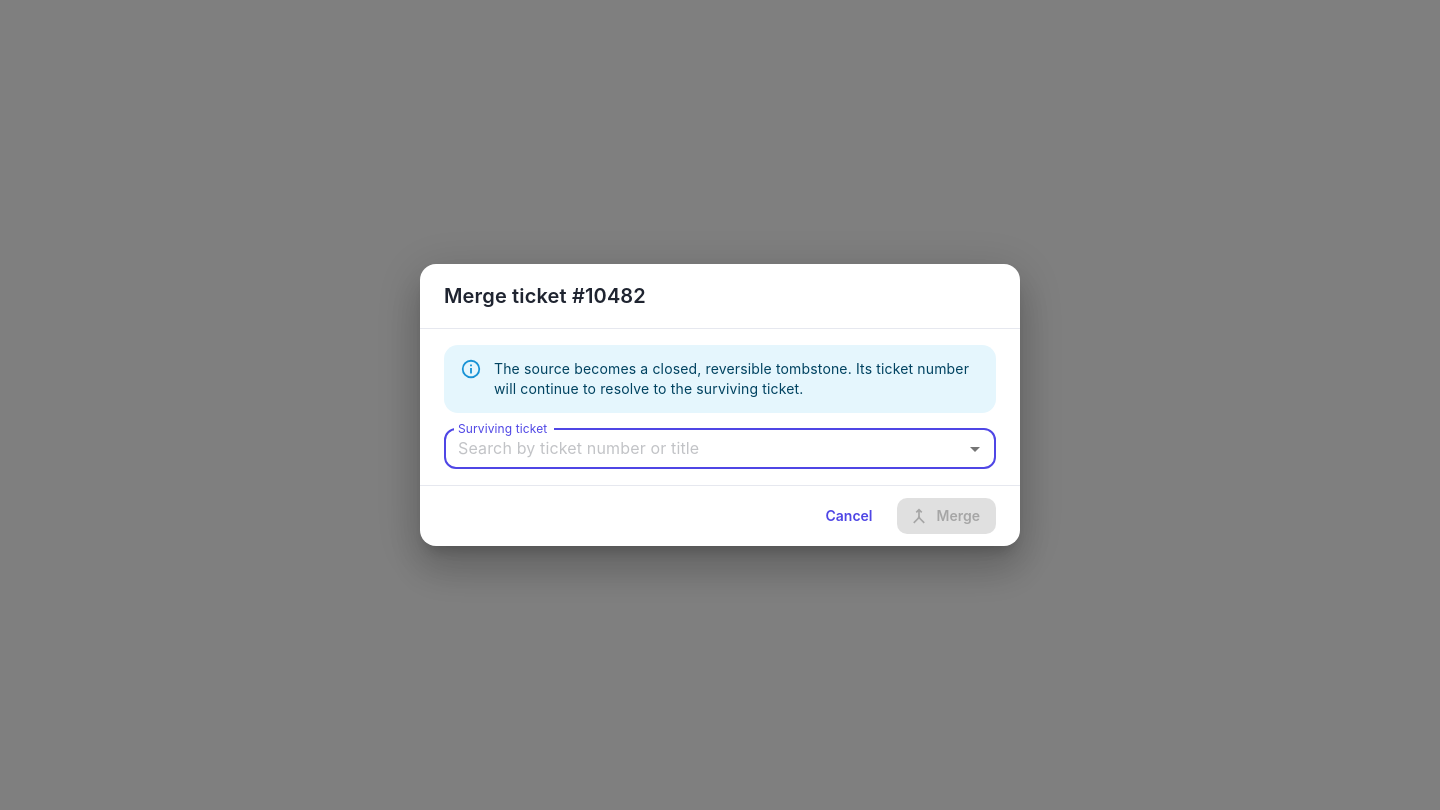
Test: MergeTicketDialog acknowledgement gate › keeps Merge disabled until every warning code is acknowledged
Type "10479" into the dropdown labelled "Surviving ticket".
click(704, 449); type("10479")  # box [450, 435, 957, 463]
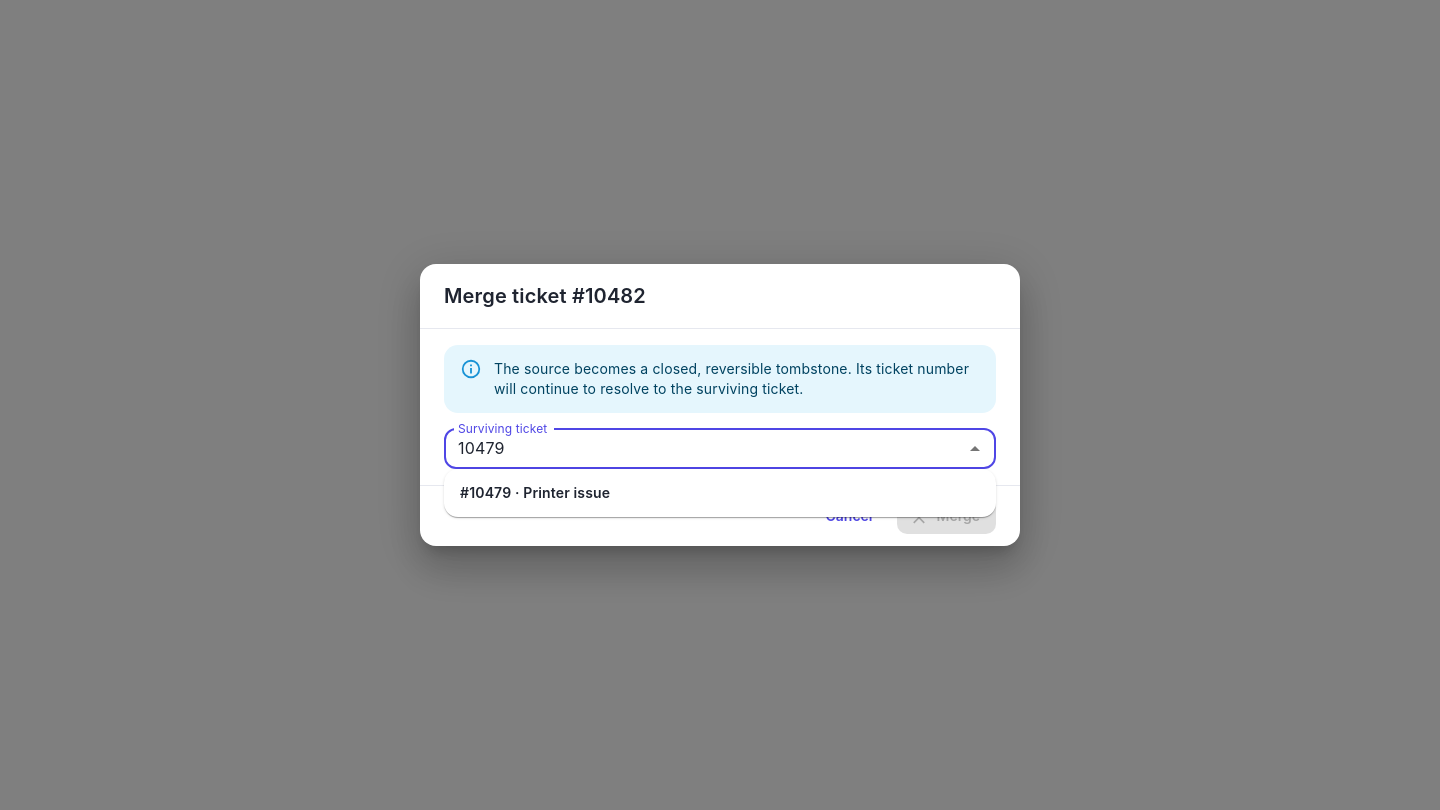
Click the option "#10479 · Printer issue".
click(535, 492)  # box [460, 484, 610, 501]
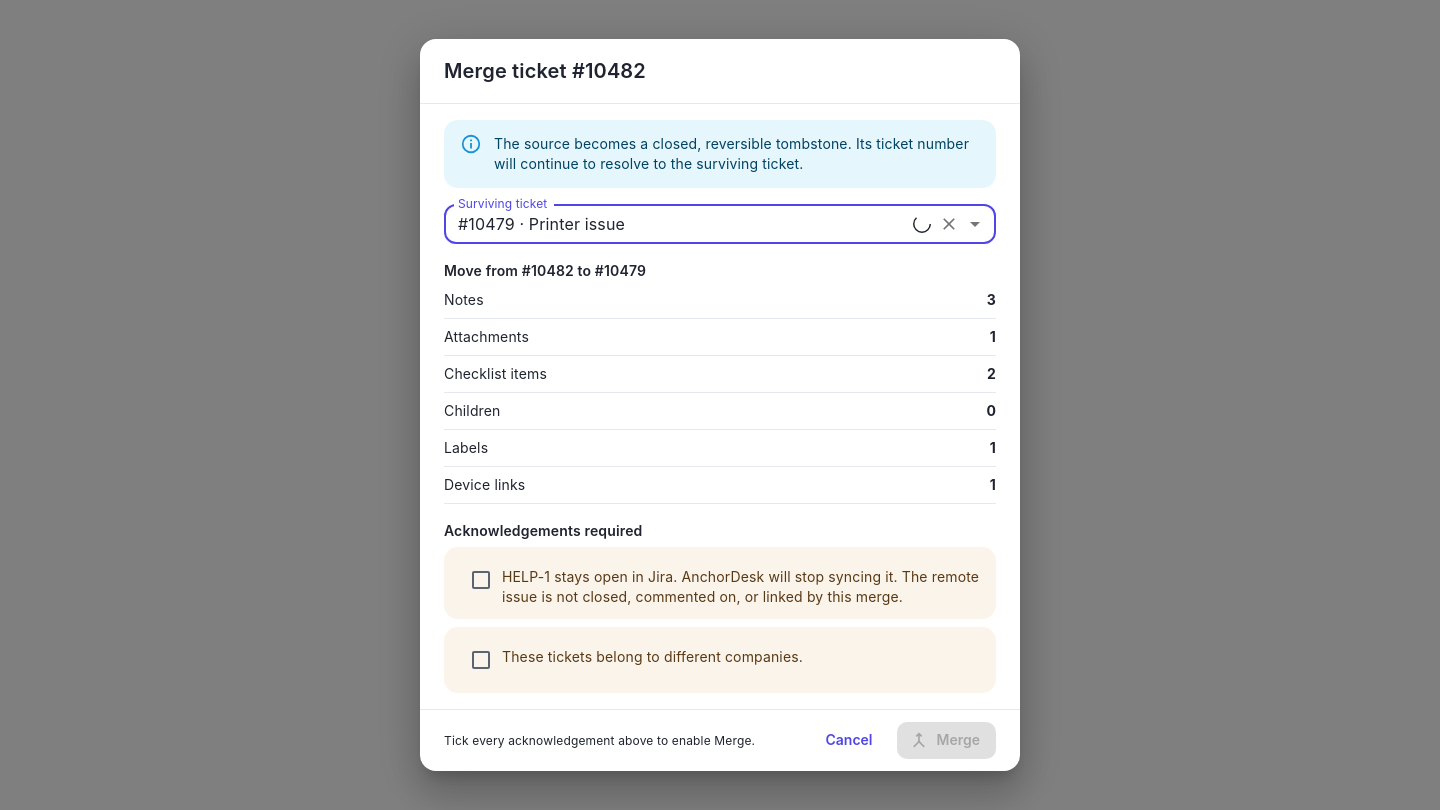
Expected: the button "Merge" is disabled, [896, 722, 996, 759]
Expected: the heading "Move from #10482 to #10479" is shown, [444, 262, 646, 279]
Click the checkbox named "Acknowledge sync-stop".
click(720, 583)  # box [460, 559, 980, 607]
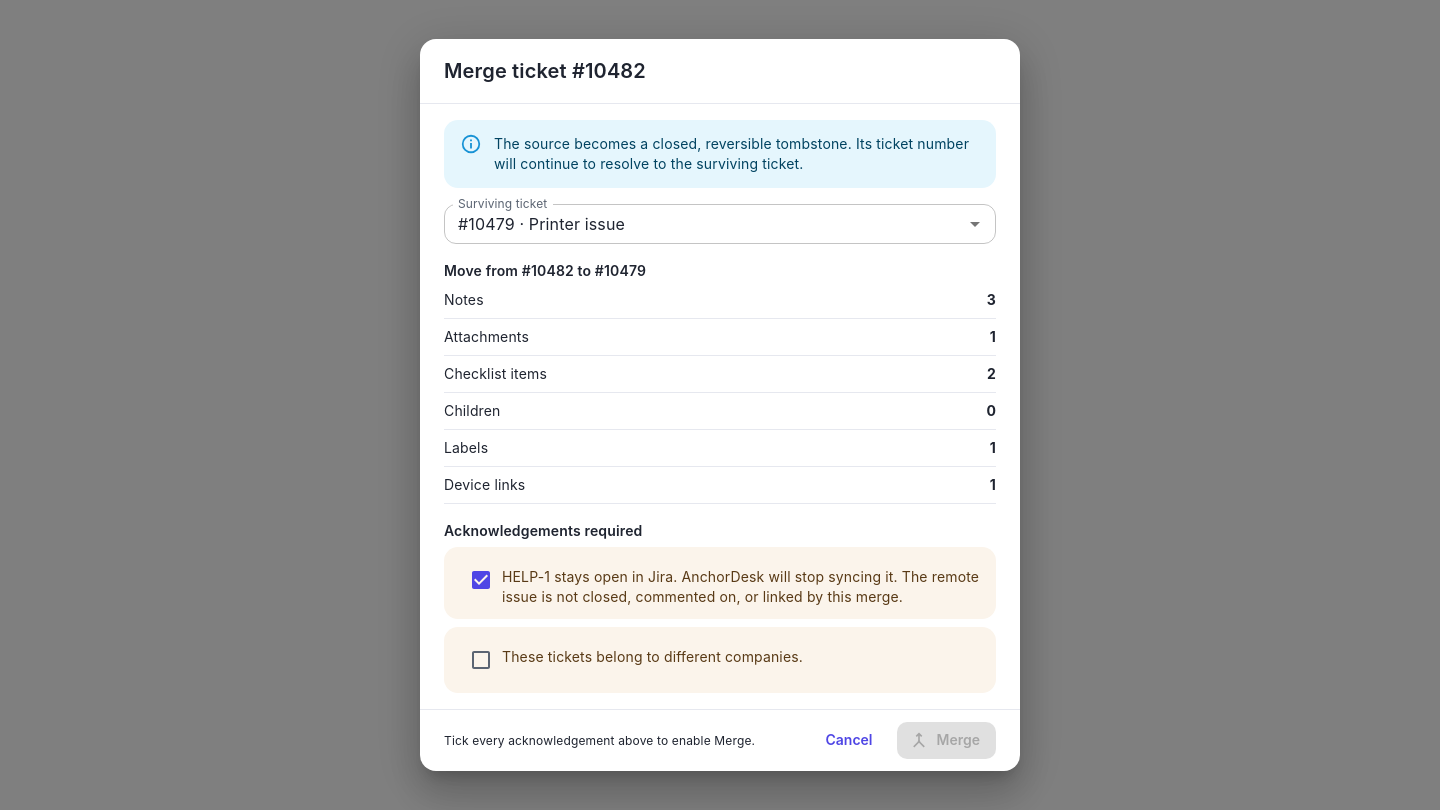
Expected: the button "Merge" is disabled, [896, 722, 996, 759]
Click the checkbox named "Acknowledge cross-company".
click(636, 660)  # box [469, 648, 803, 672]
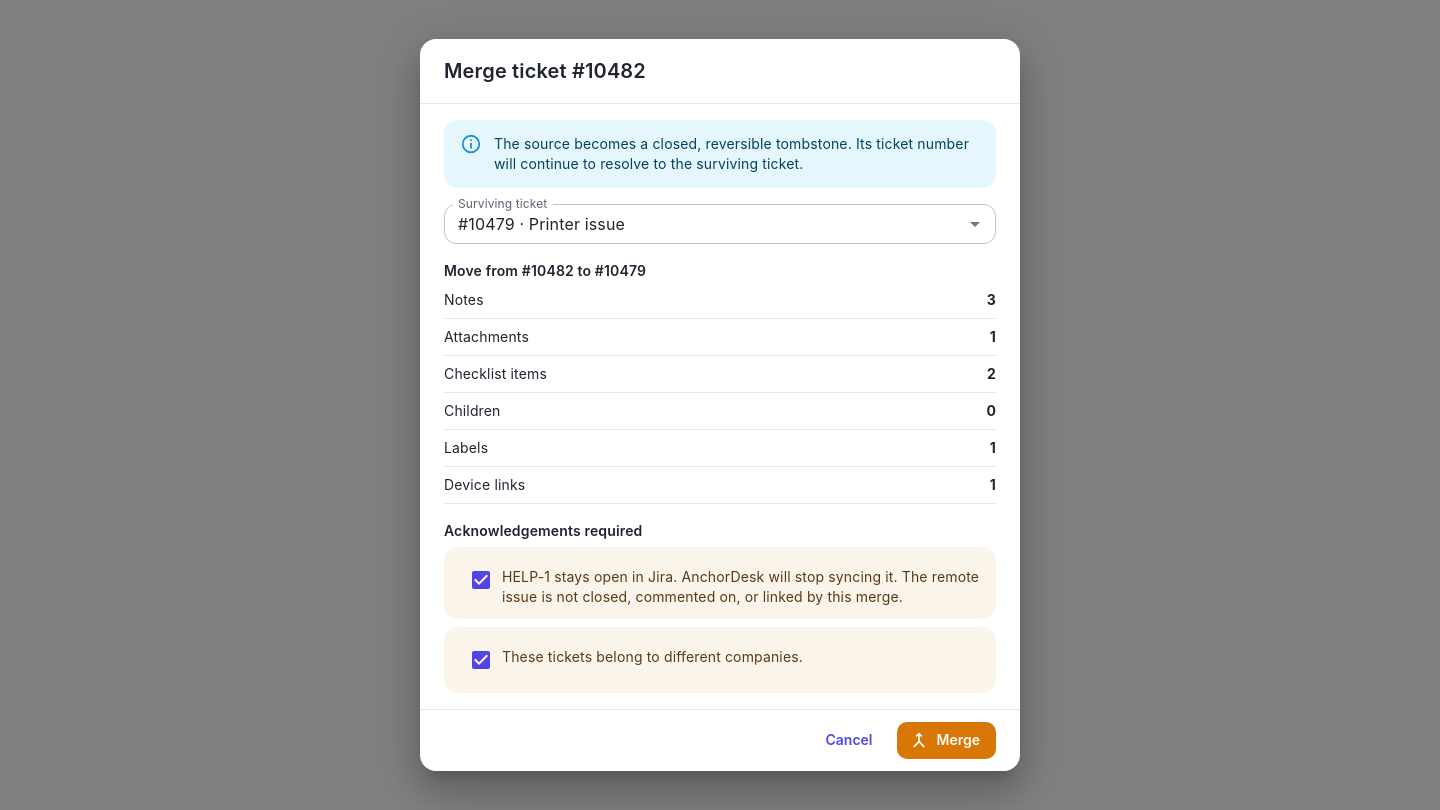
Expected: the button "Merge" is enabled, [896, 722, 996, 759]
